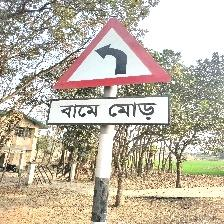Left-Turn: (47, 16, 173, 128)
